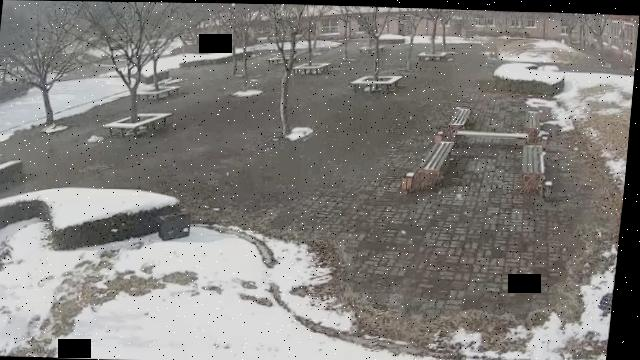bag: (159, 209, 197, 239)
